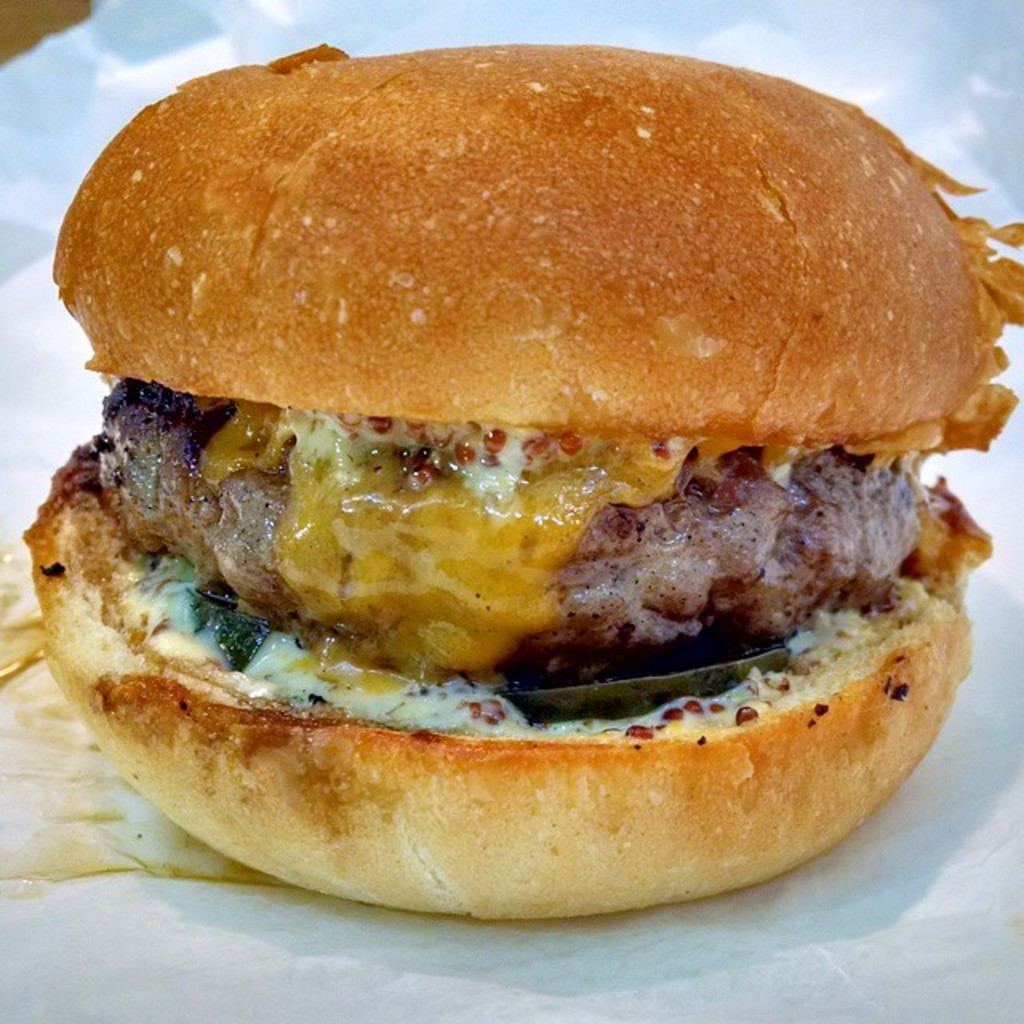Hamburger: (17, 44, 1022, 923)
